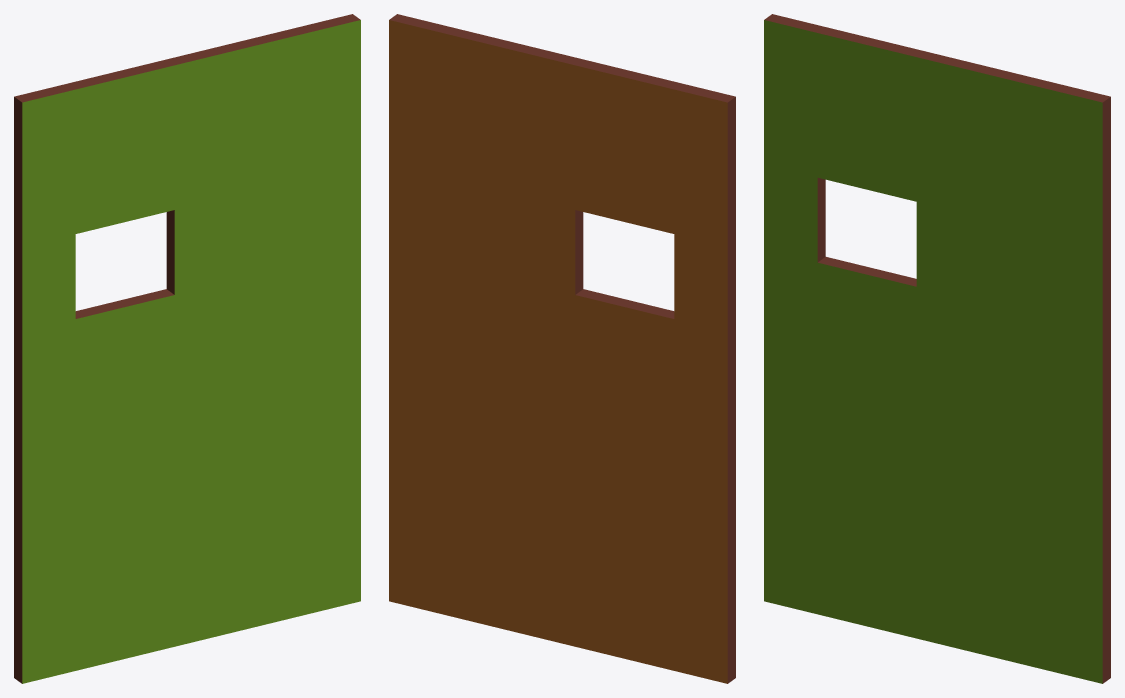
Rendered from ParedHuecoVentilación.fbx.
3 renders of one model, left to right at view 1: azimuth 30°, elevation 25°; view 2: azimuth 150°, elevation 25°; view 3: azimuth 330°, elevation 25°, orthographic.
Visible parts, largest first — view 1: ParedHuecoVentilación; view 2: ParedHuecoVentilación; view 3: ParedHuecoVentilación.
Part boxes in pixels (x1,y1,x2,y2): ParedHuecoVentilación: (14, 14, 360, 683); ParedHuecoVentilación: (389, 14, 735, 683); ParedHuecoVentilación: (764, 14, 1110, 683).
Bounding box in the file's own units: 241 × 395 × 10.
